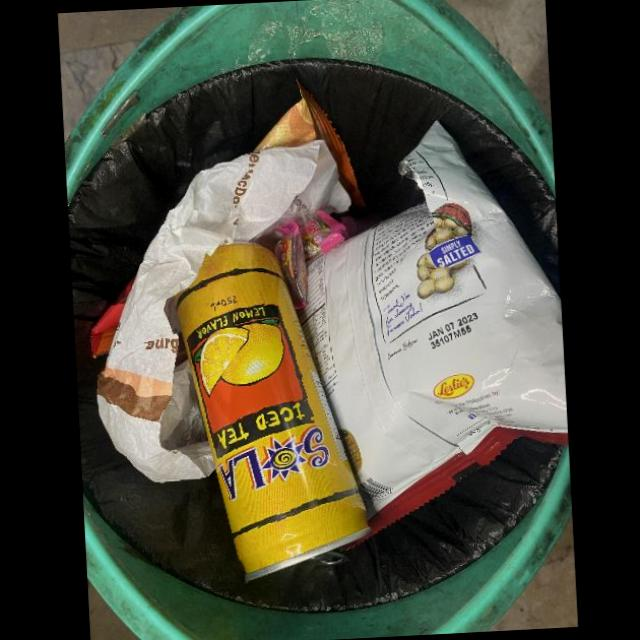bao_bi_thuc_pham: (303, 118, 569, 531), (252, 79, 366, 207), (273, 210, 350, 309)
giay: (97, 137, 351, 481)
nhom: (176, 240, 372, 581)
